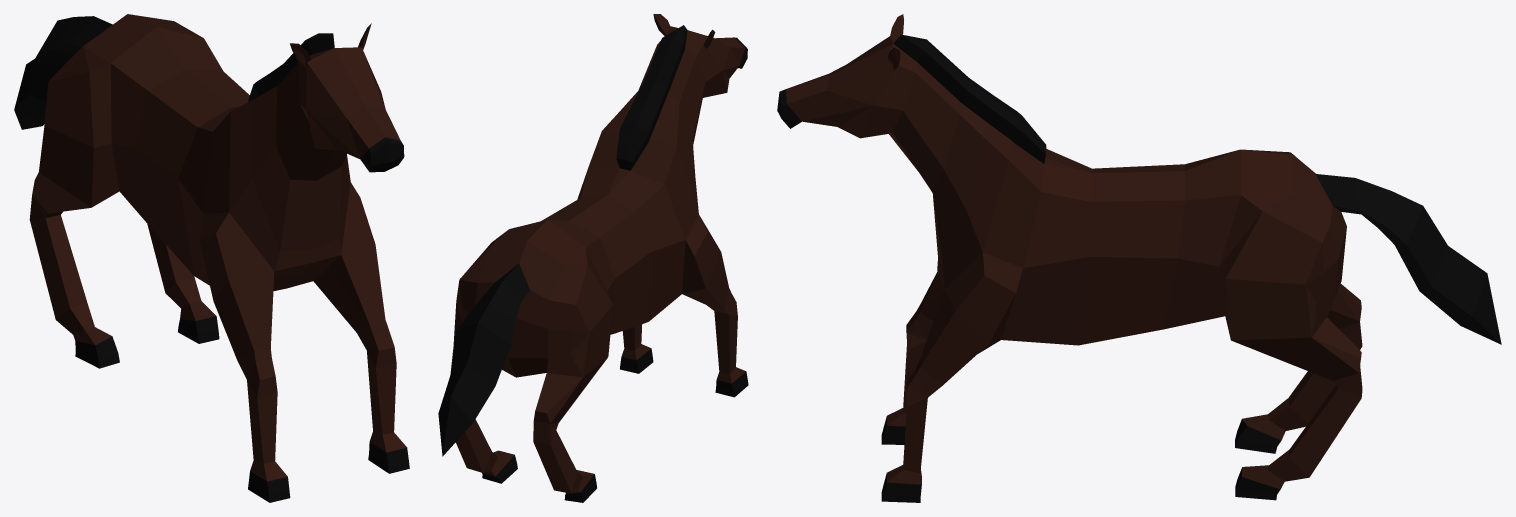
Rendered from Horse_000006.obj.
3 renders of one model, left to right at view 1: azimuth 30°, elevation 25°; view 2: azimuth 150°, elevation 25°; view 3: azimuth 270°, elevation 25°, orthographic. The views are drawn at different scales.
Parts seen in each view (by area): view 1: Horse_Cylinder; view 2: Horse_Cylinder; view 3: Horse_Cylinder.
Boxes of the visible parts, x1,y1,x2,y2 form: Horse_Cylinder: (14, 14, 409, 502); Horse_Cylinder: (438, 14, 748, 502); Horse_Cylinder: (777, 14, 1501, 502).
Bounding box in the file's own units: 2.55 × 6.69 × 9.93.
